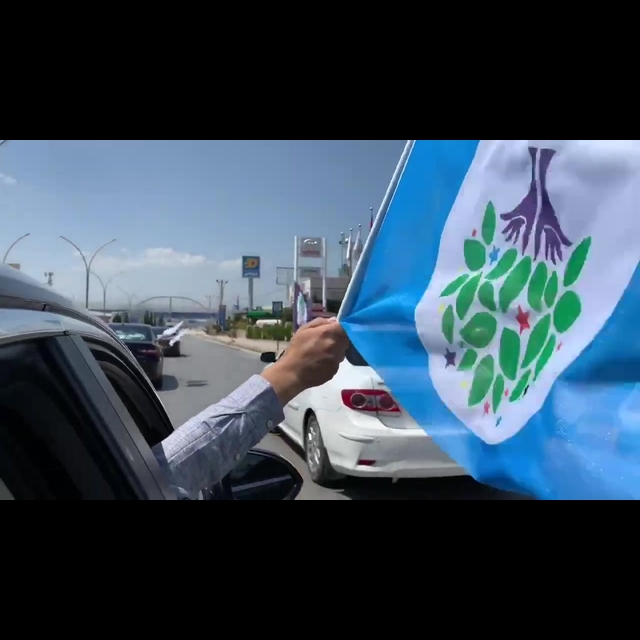HDP: (428, 142, 593, 433)
